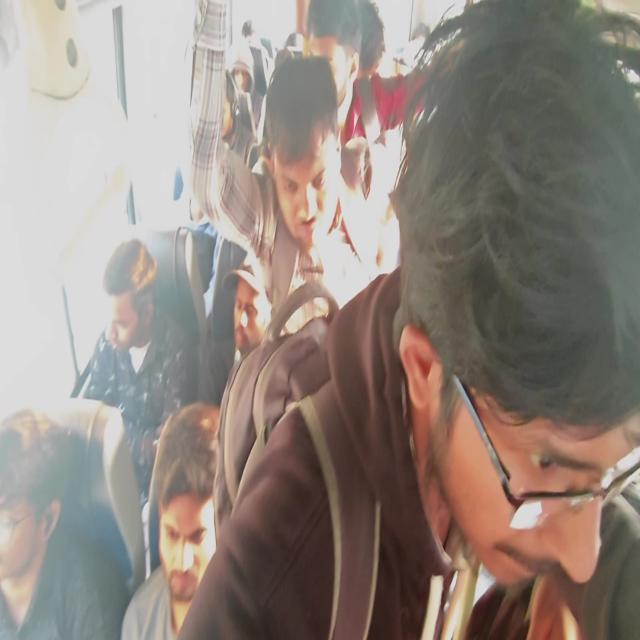person: (422, 112, 610, 640), (271, 65, 369, 259), (3, 399, 90, 614), (151, 412, 233, 622), (99, 236, 168, 385), (300, 10, 366, 90), (232, 262, 278, 357), (203, 73, 256, 144), (357, 24, 396, 86), (231, 39, 267, 106), (241, 18, 269, 62)
